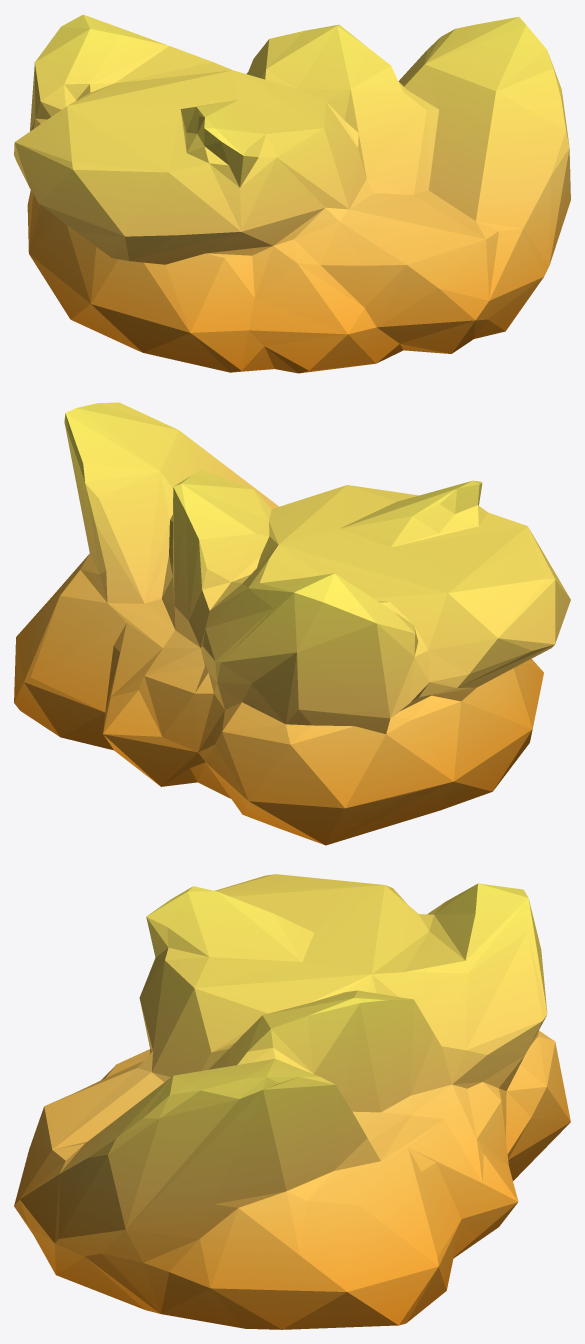
Rendered from SM_Rock_2.fbx.
3 renders of one model, top to bottom at view 1: azimuth 30°, elevation 25°; view 2: azimuth 150°, elevation 25°; view 3: azimuth 270°, elevation 25°, orthographic. The views are drawn at different scales.
Parts seen in each view (by area): view 1: Rock_2; view 2: Rock_2; view 3: Rock_2.
Boxes of the visible parts, x1,y1,x2,y2 form: Rock_2: [14, 14, 570, 373]; Rock_2: [14, 402, 570, 845]; Rock_2: [14, 874, 570, 1329].
Bounding box in the file's own units: 601 × 279 × 530.
